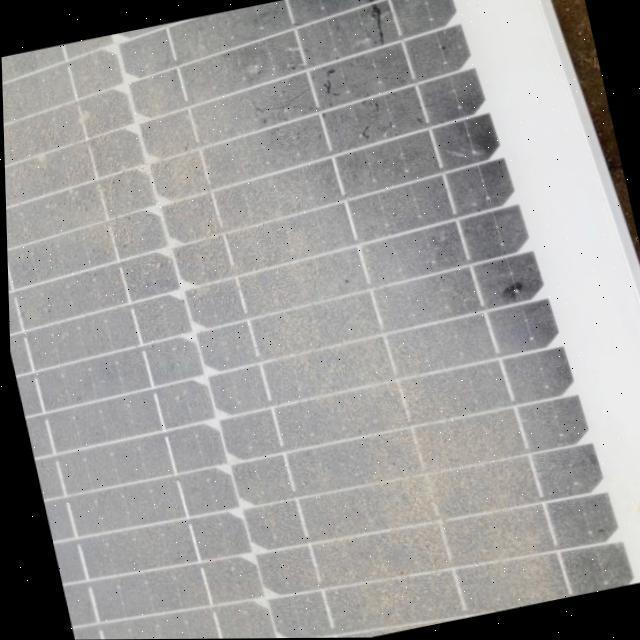Anomaly Solar Panel: (0, 0, 625, 640)
Surface Contaminant: (1, 0, 611, 640)
